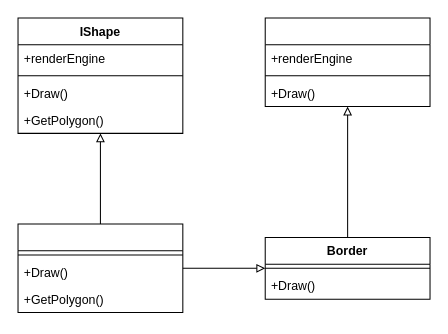
Image size: 448x334. Some labels were removed from this diagram. Each missing label, with the box of its shape:
IAdditional: (264, 17, 430, 107)
Sphere: (17, 223, 183, 313)
